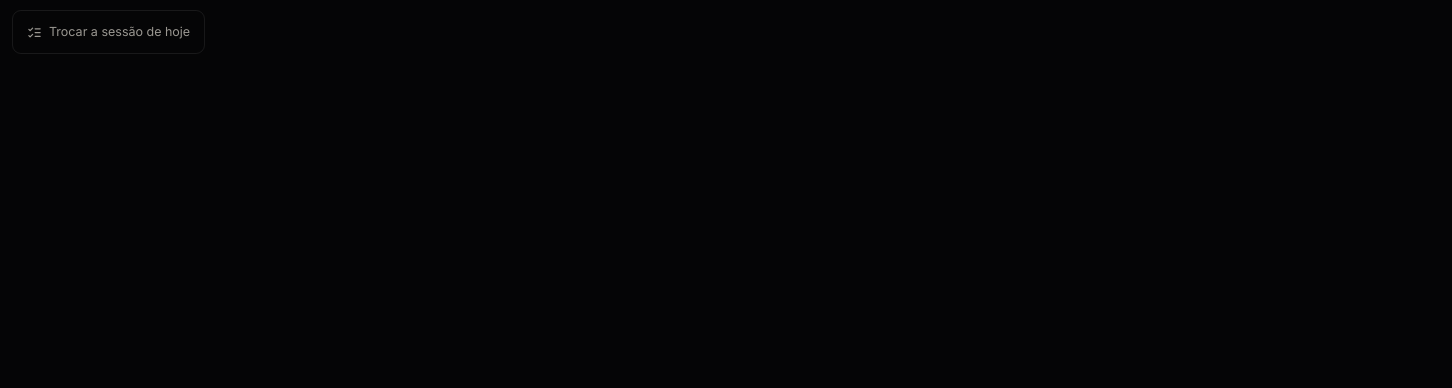
falha ao escolher aparece na tela e o painel não some
Step 1. Click the button with test id "escolher-sessao-abrir" → point(109, 32), box [12,10,205,54]
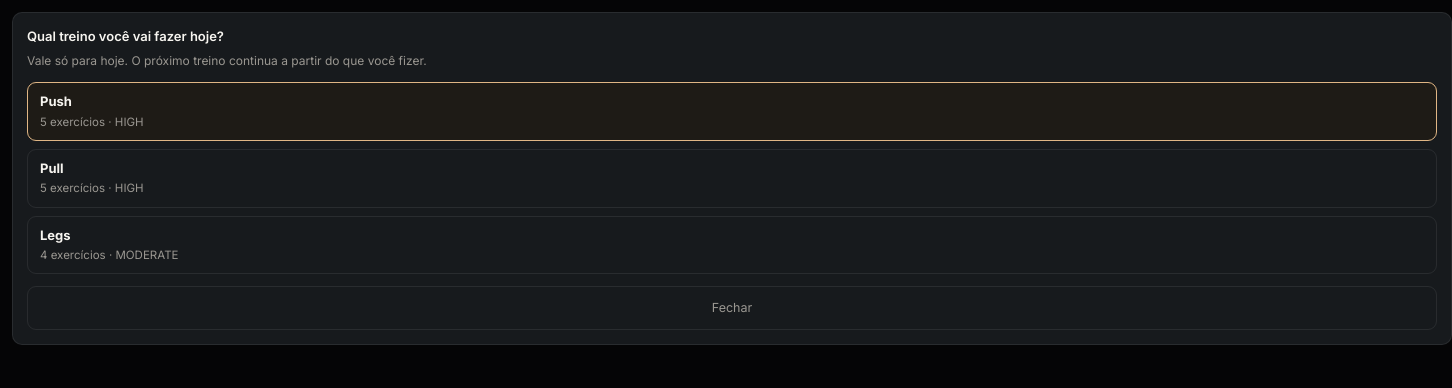
Step 2. Click the radio button with test id "escolher-sessao-3" → point(55, 235), box [27,216,1437,274]
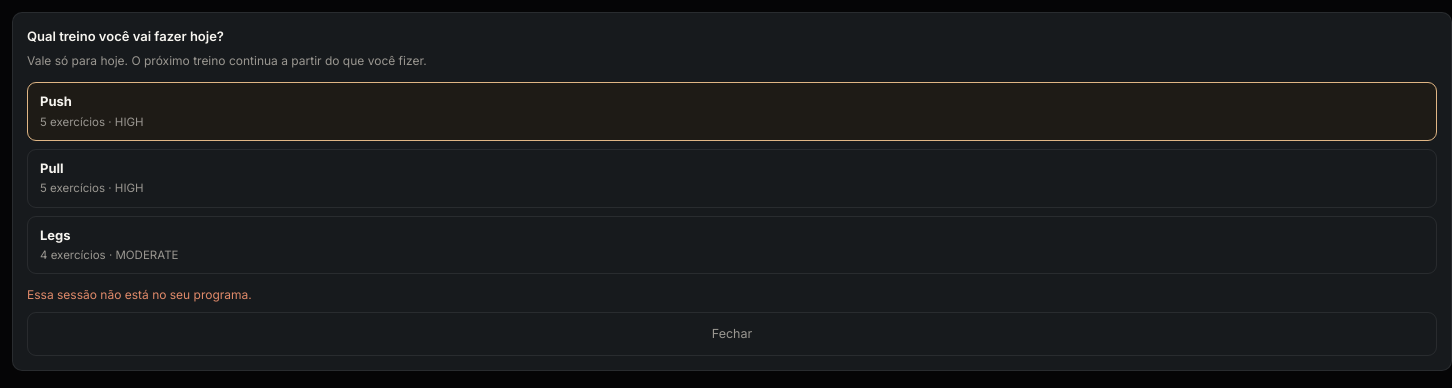
Expected: the element with test id "escolher-sessao" is shown
Expected: the message with test id "escolher-sessao-erro" shows "programa", [27,287,252,302]
